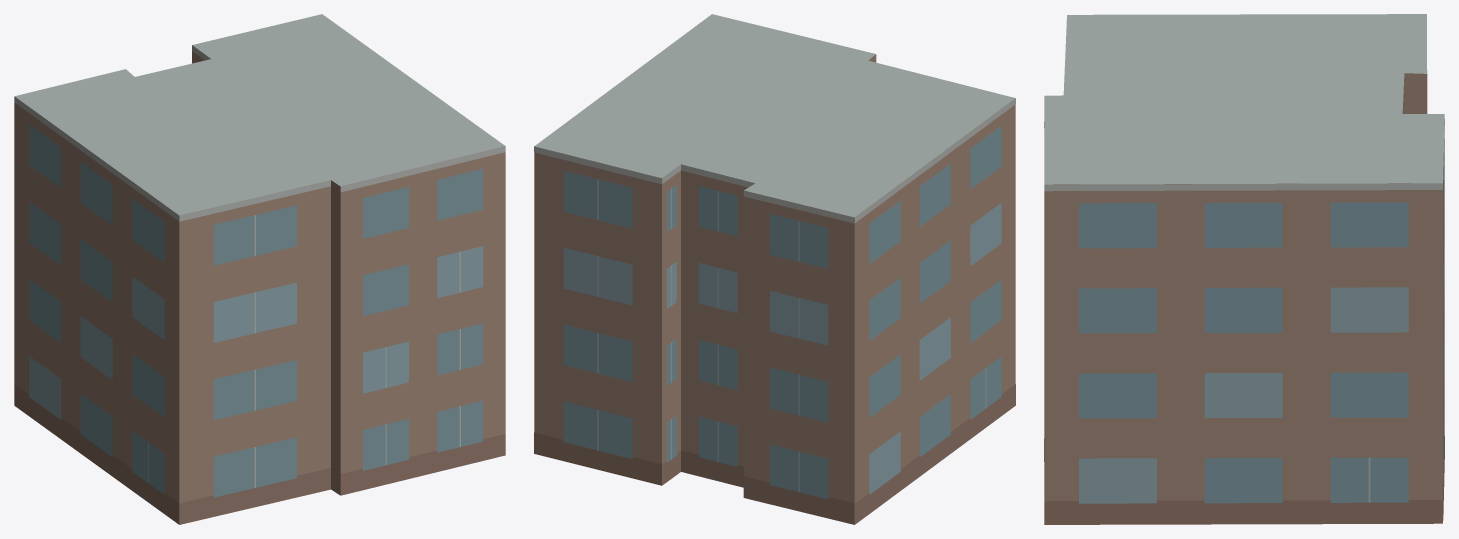
File: survey-upis-32770279.glb
3 views of the same model, side by side, from view 1: azimuth 30°, elevation 25°; view 2: azimuth 150°, elevation 25°; view 3: azimuth 270°, elevation 25° (orthographic). The views are drawn at different scales.
Parts seen in each view (by area): view 1: survey-upis-32770279.tmp; view 2: survey-upis-32770279.tmp; view 3: survey-upis-32770279.tmp.
Part boxes in pixels (x1=…): survey-upis-32770279.tmp: x1=14, y1=14, x2=505, y2=524; survey-upis-32770279.tmp: x1=534, y1=14, x2=1015, y2=524; survey-upis-32770279.tmp: x1=1044, y1=14, x2=1444, y2=524.
Size of the model in its own units: 13.33 by 12.4 by 13.24.
